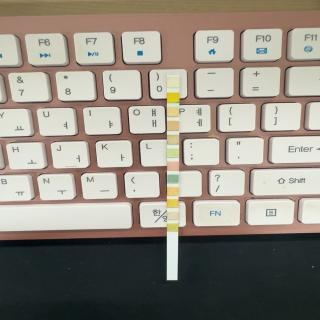mark: (167, 92, 179, 102), (167, 78, 179, 88), (166, 174, 178, 183), (167, 148, 179, 157), (168, 135, 180, 144), (167, 199, 178, 208), (167, 187, 178, 196), (167, 212, 179, 220), (167, 162, 179, 170), (167, 108, 179, 116), (168, 121, 178, 130), (168, 224, 178, 232)
